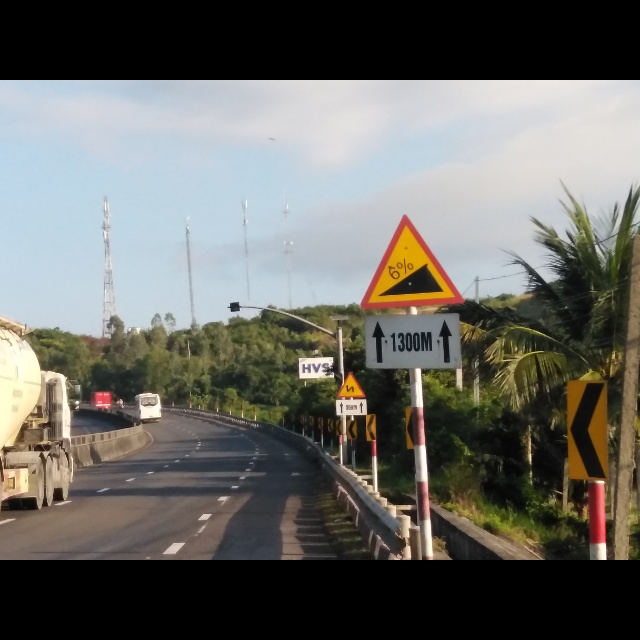Dốc lên nguy hiểm: (358, 212, 466, 310)
Ngoặt nguy hiểm liên tiếp bên phải: (337, 370, 369, 399)
